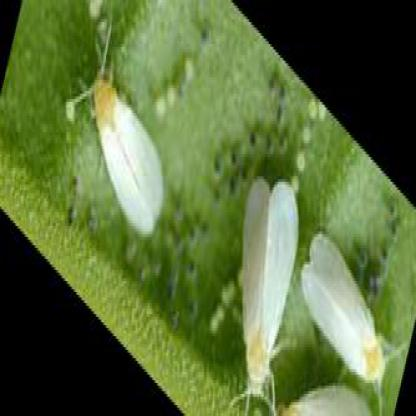whitefly: (239, 175, 299, 397), (302, 233, 385, 386), (92, 79, 164, 233)
